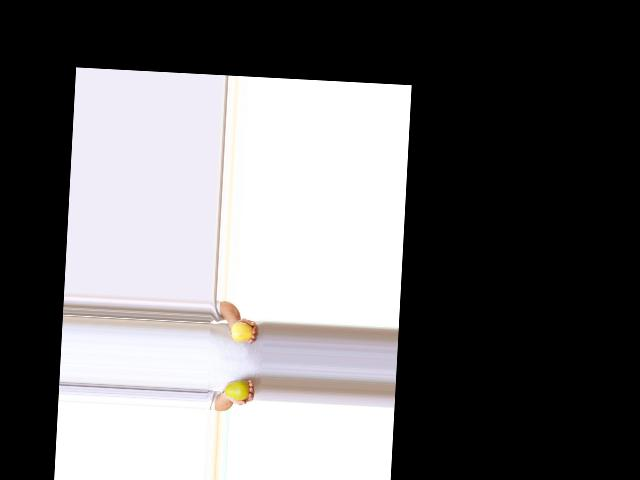apple: (230, 320, 255, 343)
